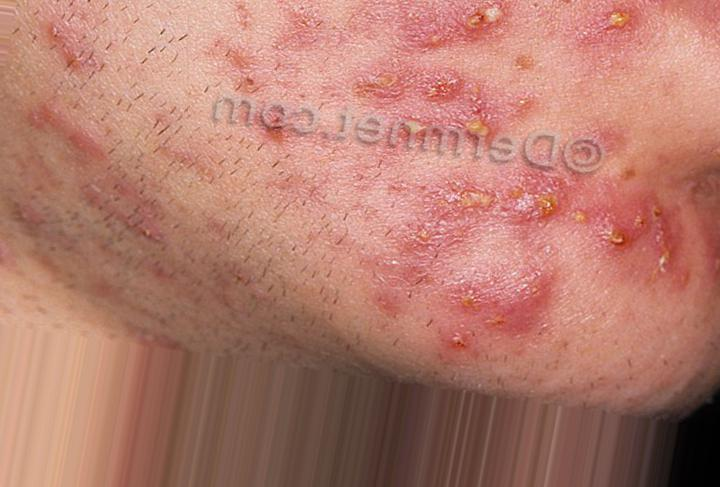Acne: (459, 164, 633, 258), (358, 60, 503, 148), (413, 0, 517, 43), (596, 7, 654, 43)
